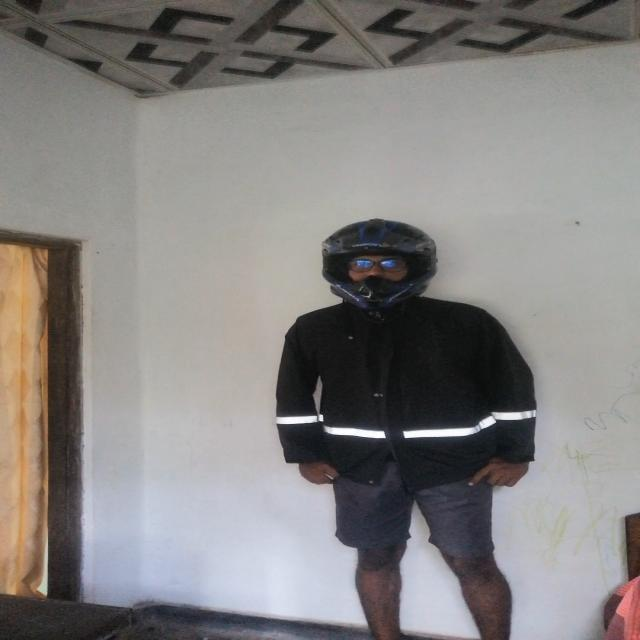Helmet_Wearer: (308, 215, 460, 312)
Jacket_Wearer: (286, 289, 565, 493)
